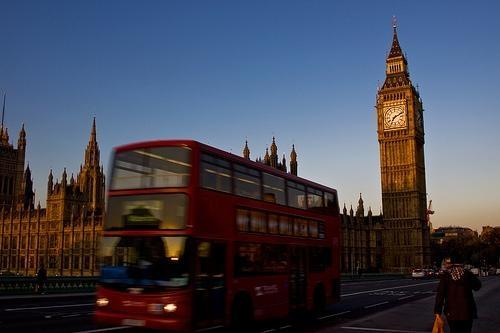bus: (88, 140, 342, 326)
car: (412, 269, 426, 279), (424, 269, 434, 279), (440, 269, 446, 276), (434, 270, 440, 274)
